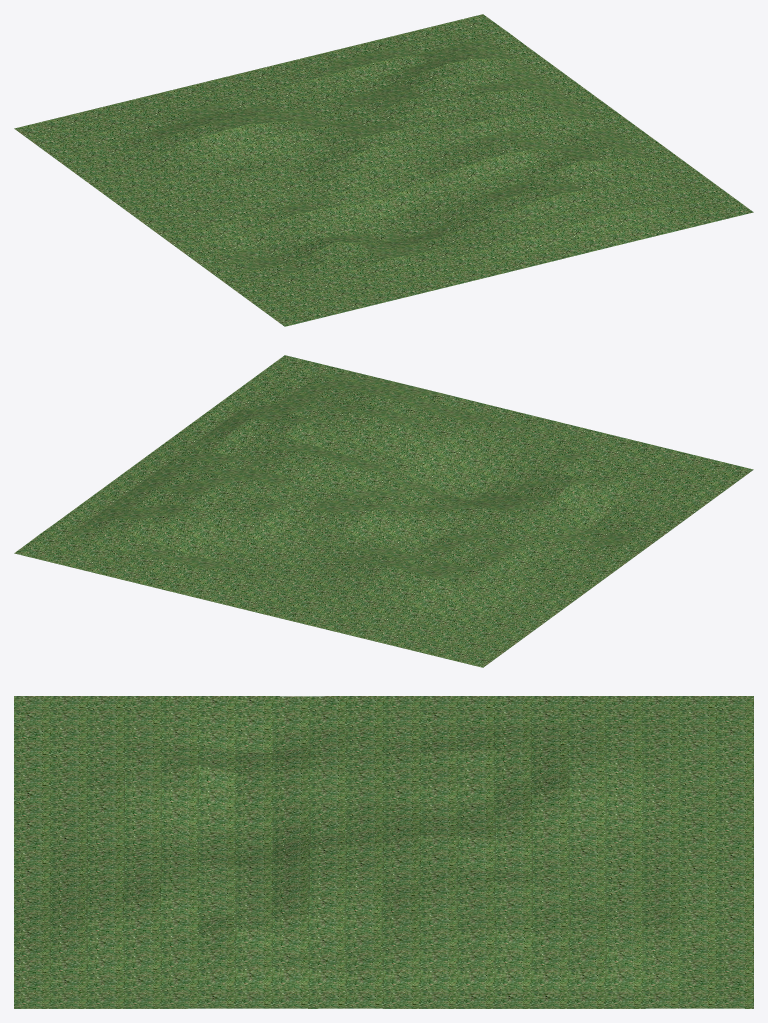
Rendered from LandScape_v2.glb.
The picture shows the model from 3 angles, top to bottom: view 1: azimuth 30°, elevation 25°; view 2: azimuth 150°, elevation 25°; view 3: azimuth 270°, elevation 25°; orthographic projection. The views are drawn at different scales.
Visible parts, largest first — view 1: グリッド; view 2: グリッド; view 3: グリッド.
Part boxes in pixels (x1=…): グリッド: x1=14, y1=14, x2=753, y2=326; グリッド: x1=14, y1=355, x2=753, y2=667; グリッド: x1=14, y1=696, x2=753, y2=1008.
Size of the model in its own units: 20 by 0.9725 by 20.
1 material, 1 textured.
